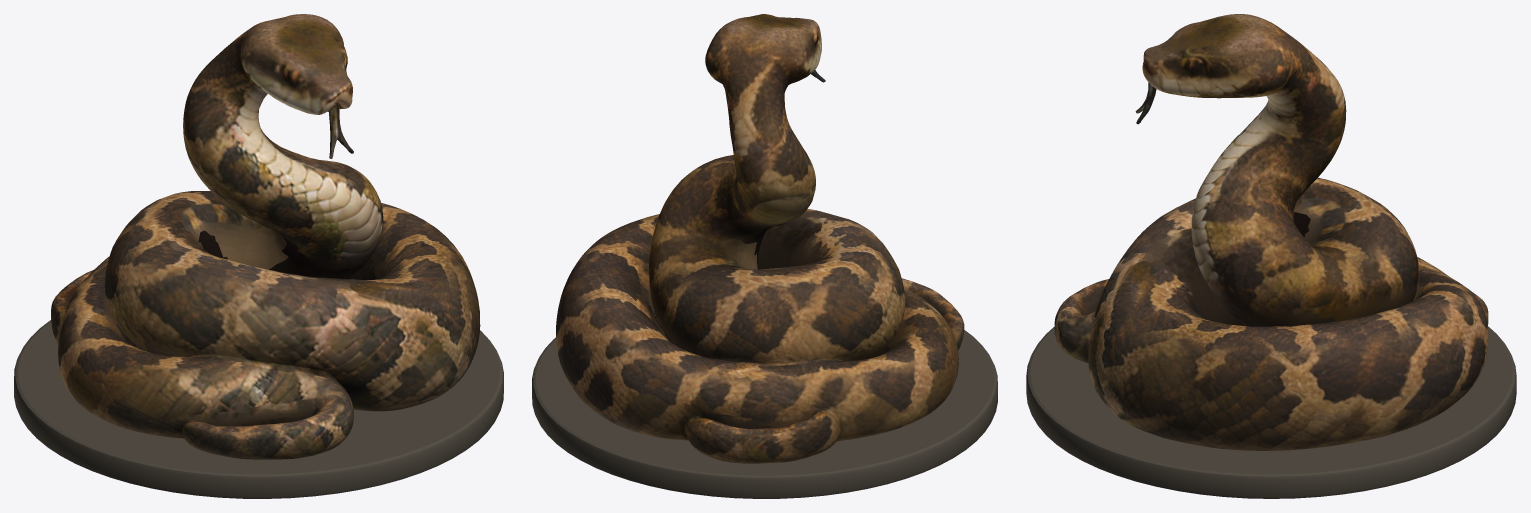
Rendered from snake.glb.
The picture shows the model from 3 angles, left to right: view 1: azimuth 30°, elevation 25°; view 2: azimuth 150°, elevation 25°; view 3: azimuth 270°, elevation 25°; orthographic projection. The views are drawn at different scales.
Parts seen in each view (by area): view 1: snake_body, snake_round_base; view 2: snake_body, snake_round_base; view 3: snake_body, snake_round_base.
Boxes of the visible parts, box(x1,y1,x2,y2) form: snake_body: box(51, 14, 480, 459); snake_round_base: box(14, 320, 503, 498); snake_body: box(556, 14, 964, 463); snake_round_base: box(532, 330, 997, 498); snake_body: box(1054, 14, 1488, 450); snake_round_base: box(1026, 326, 1516, 498).
Size of the model in its own units: 1 by 0.8553 by 1.
Materials: 2 (1 with a texture image).
